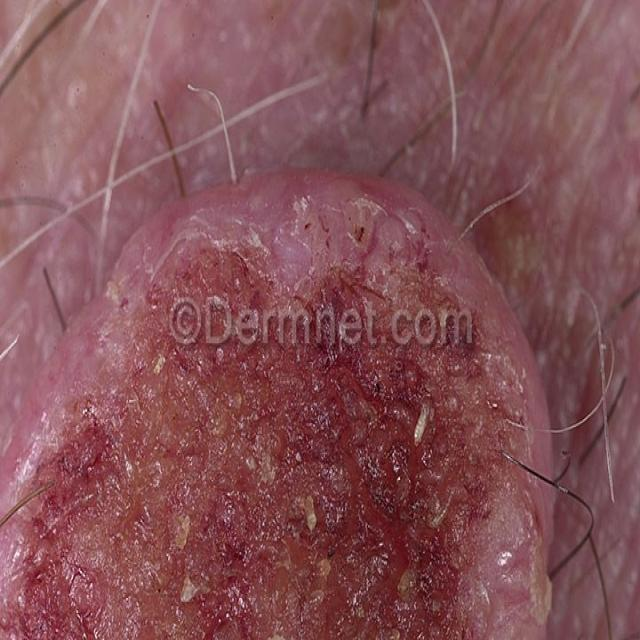Eczema: (19, 208, 553, 640)
